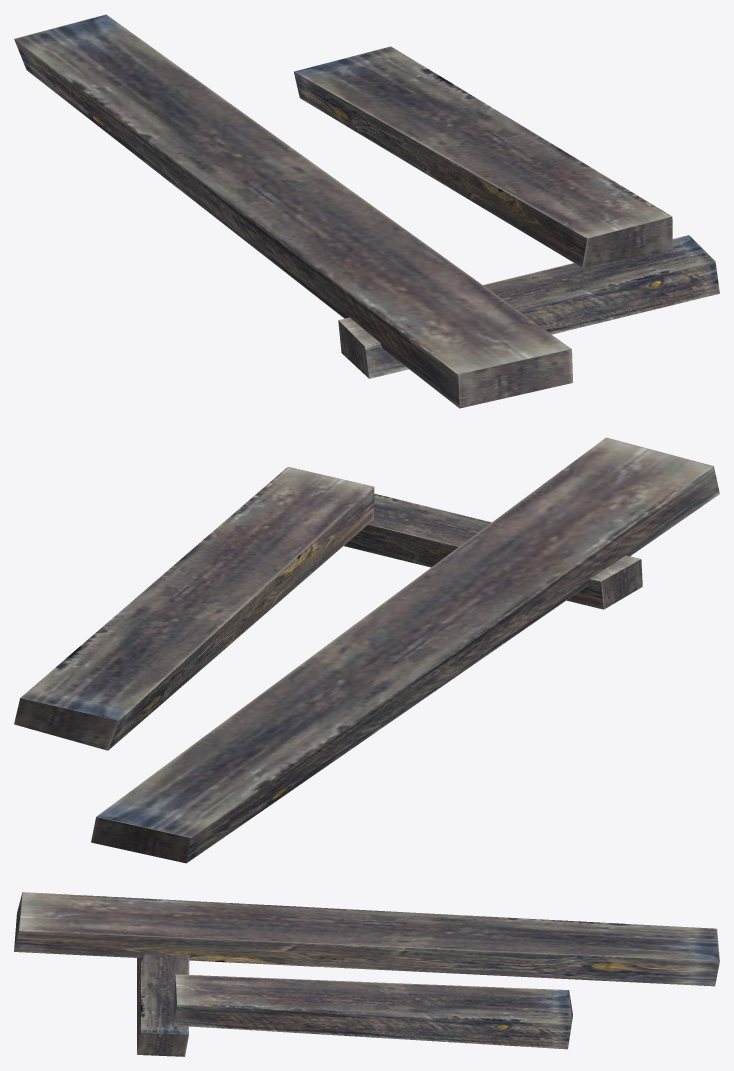
The model's file is m_way51.glb.
The picture shows the model from 3 angles, top to bottom: view 1: azimuth 30°, elevation 25°; view 2: azimuth 150°, elevation 25°; view 3: azimuth 270°, elevation 25°; orthographic projection. The views are drawn at different scales.
Visible parts, largest first — view 1: m_way51-col; view 2: m_way51-col; view 3: m_way51-col.
Boxes of the visible parts, x1,y1,x2,y2 form: m_way51-col: [14, 14, 719, 408]; m_way51-col: [14, 437, 719, 863]; m_way51-col: [14, 892, 719, 1056].
Size of the model in its own units: 1.23 by 0.2002 by 2.93.
1 material, 1 textured.
